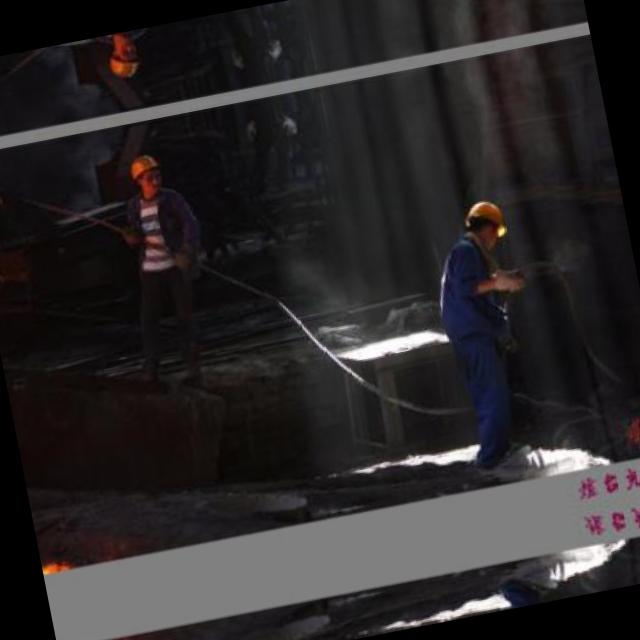helmet: (456, 194, 510, 254), (102, 34, 144, 80), (126, 152, 166, 199)
